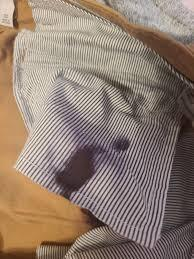ink: (57, 150, 95, 197), (114, 139, 130, 154)
